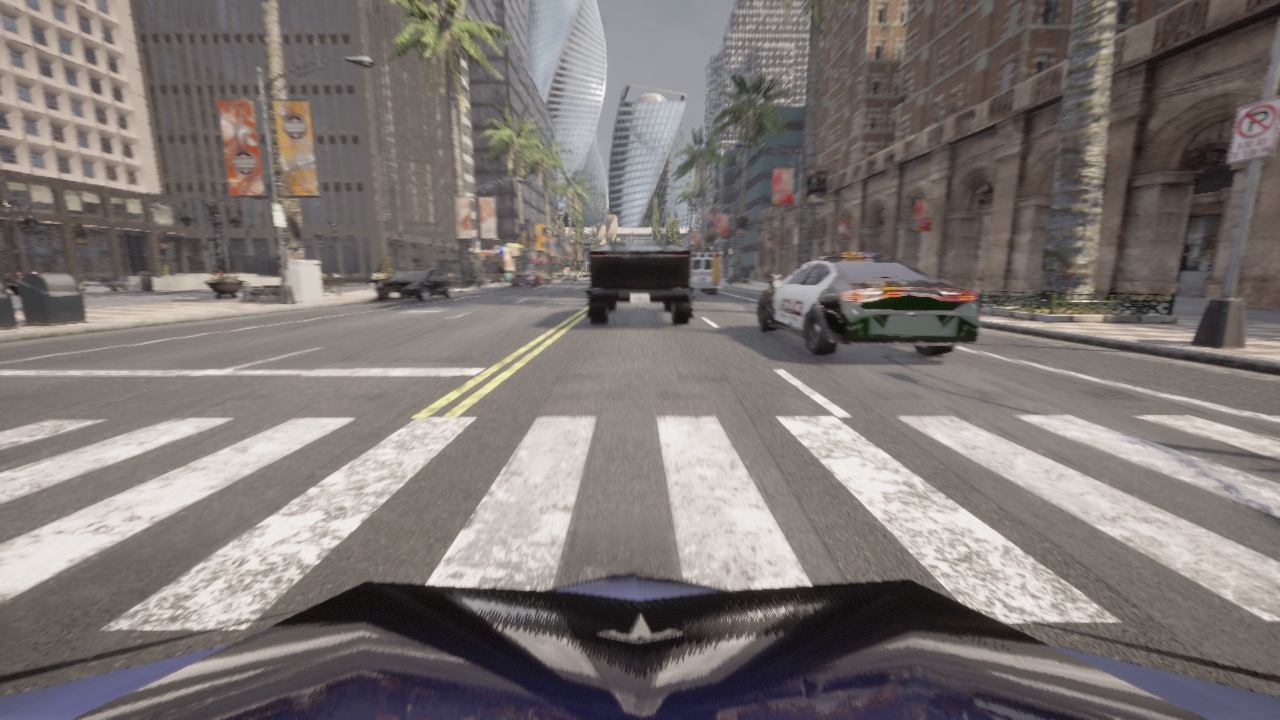cyclist: (0, 569, 1279, 719), (757, 253, 980, 356), (585, 241, 694, 323), (376, 268, 453, 301), (689, 251, 722, 293), (511, 268, 542, 286), (562, 271, 577, 281), (540, 273, 551, 284)
